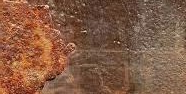Corrosion: (1, 1, 77, 94)
